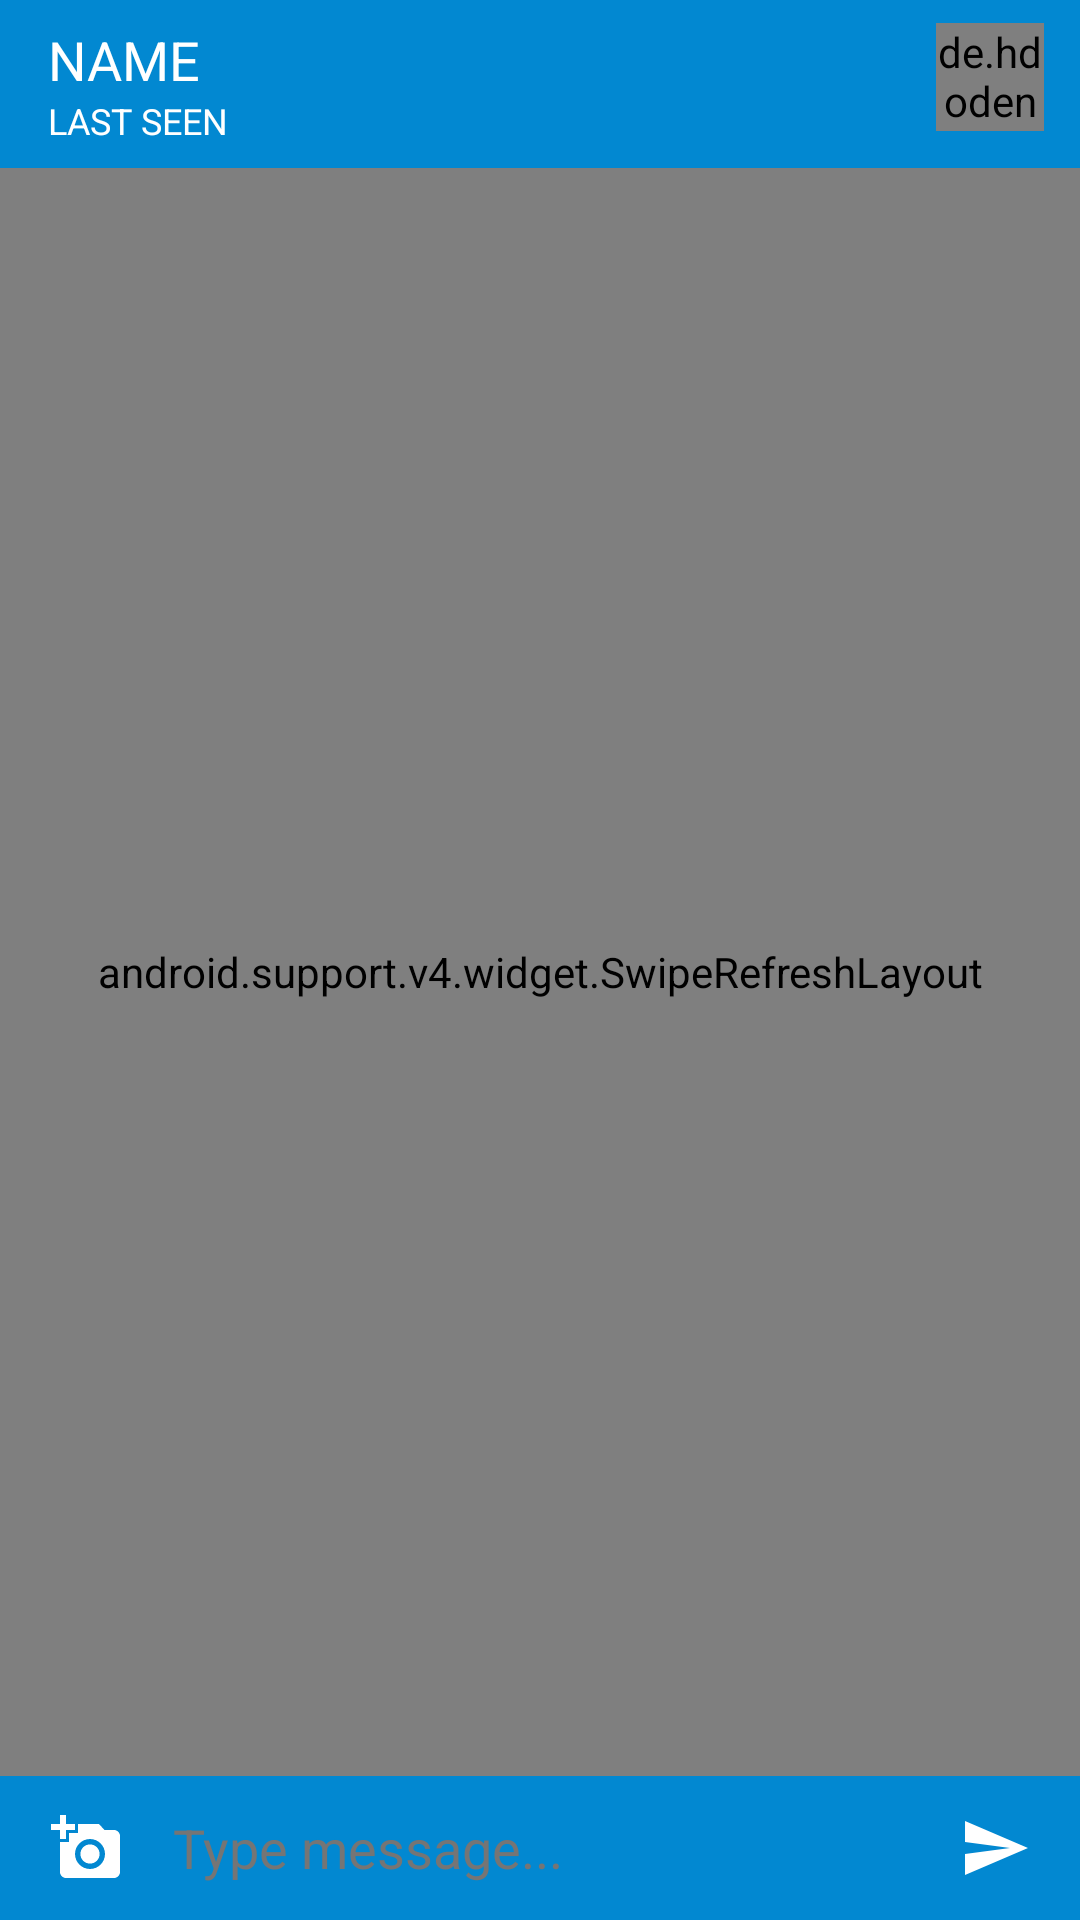

Point at icon controls on the screen. Image size 1080px×1920px, points as (x=x, y=y).
add photo: (x=85, y=1846)
send: (x=996, y=1848)
